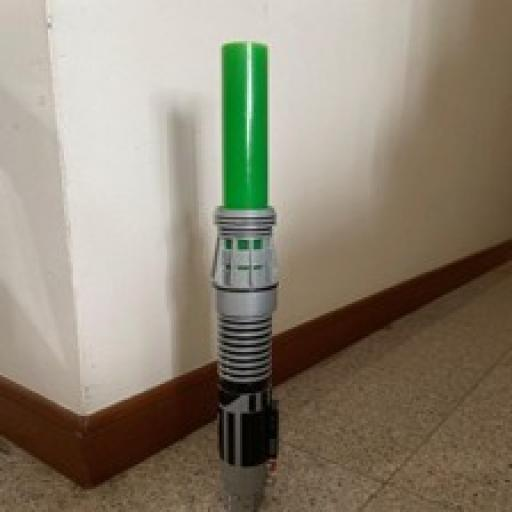lightsaber: (212, 43, 277, 509)
